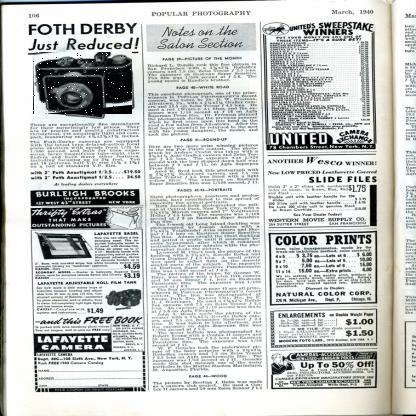Camera: (34, 53, 134, 116)
